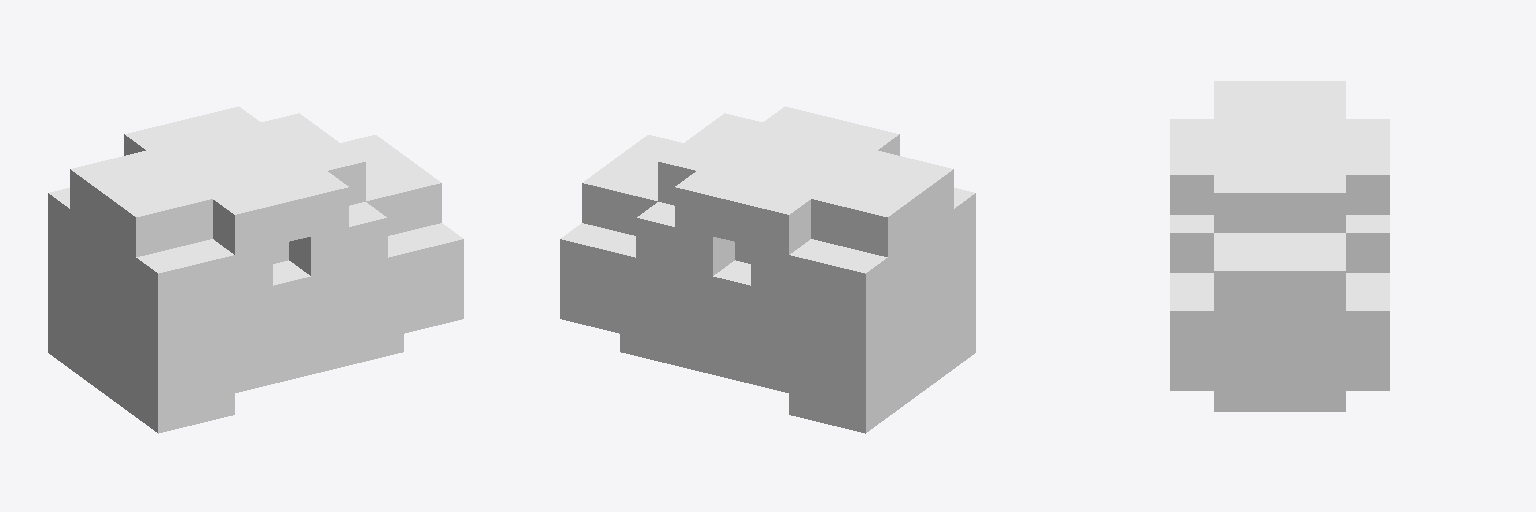
Rendered from Anguila-1.obj.
3 views of the same model, side by side, from view 1: azimuth 30°, elevation 25°; view 2: azimuth 150°, elevation 25°; view 3: azimuth 270°, elevation 25° (orthographic).
Visible parts, largest first — view 1: object 1; view 2: object 1; view 3: object 1.
Part boxes in pixels (bbox=[...]): object 1: bbox=[48, 106, 463, 433]; object 1: bbox=[560, 106, 975, 433]; object 1: bbox=[1170, 81, 1389, 411].
Size of the model in its own units: 0.8 by 0.5 by 0.5.